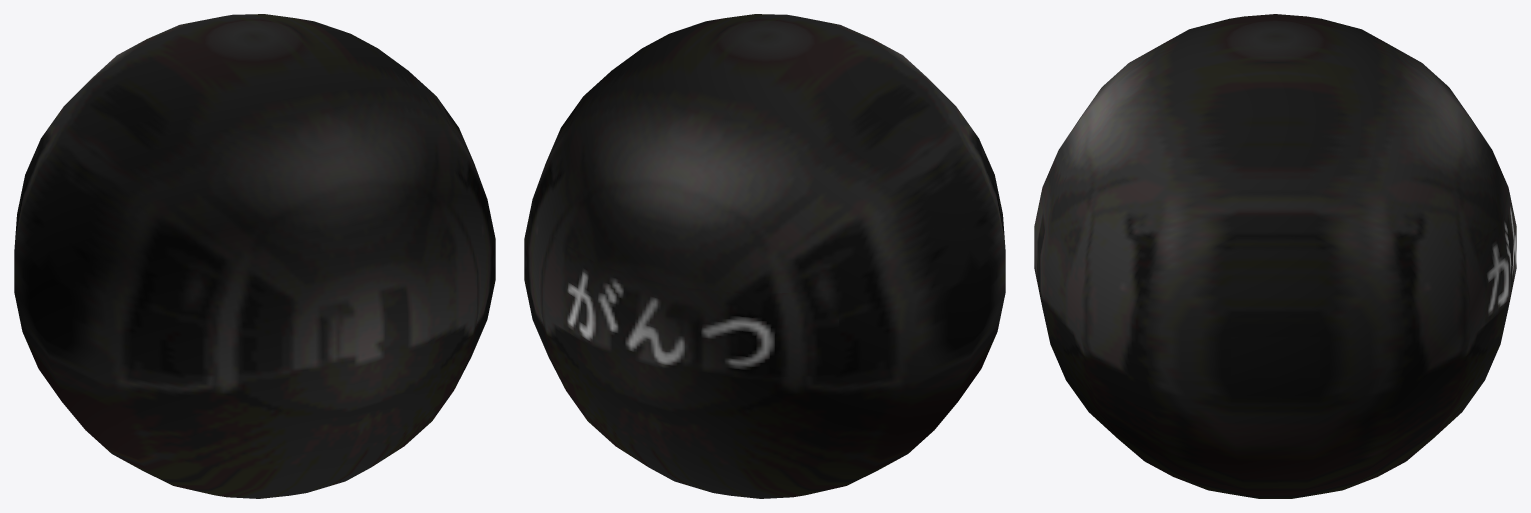
The model's file is gantz.ico.obj.
3 views of the same model, side by side, from view 1: azimuth 30°, elevation 25°; view 2: azimuth 150°, elevation 25°; view 3: azimuth 270°, elevation 25° (orthographic).
Size of the model in its own units: 4.94 by 5 by 4.96.
Materials: 1 (1 with a texture image).
